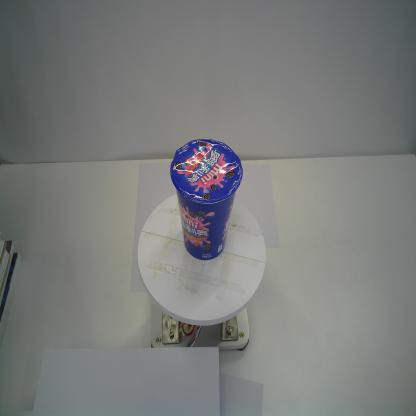Dessert: (170, 138, 243, 261)
